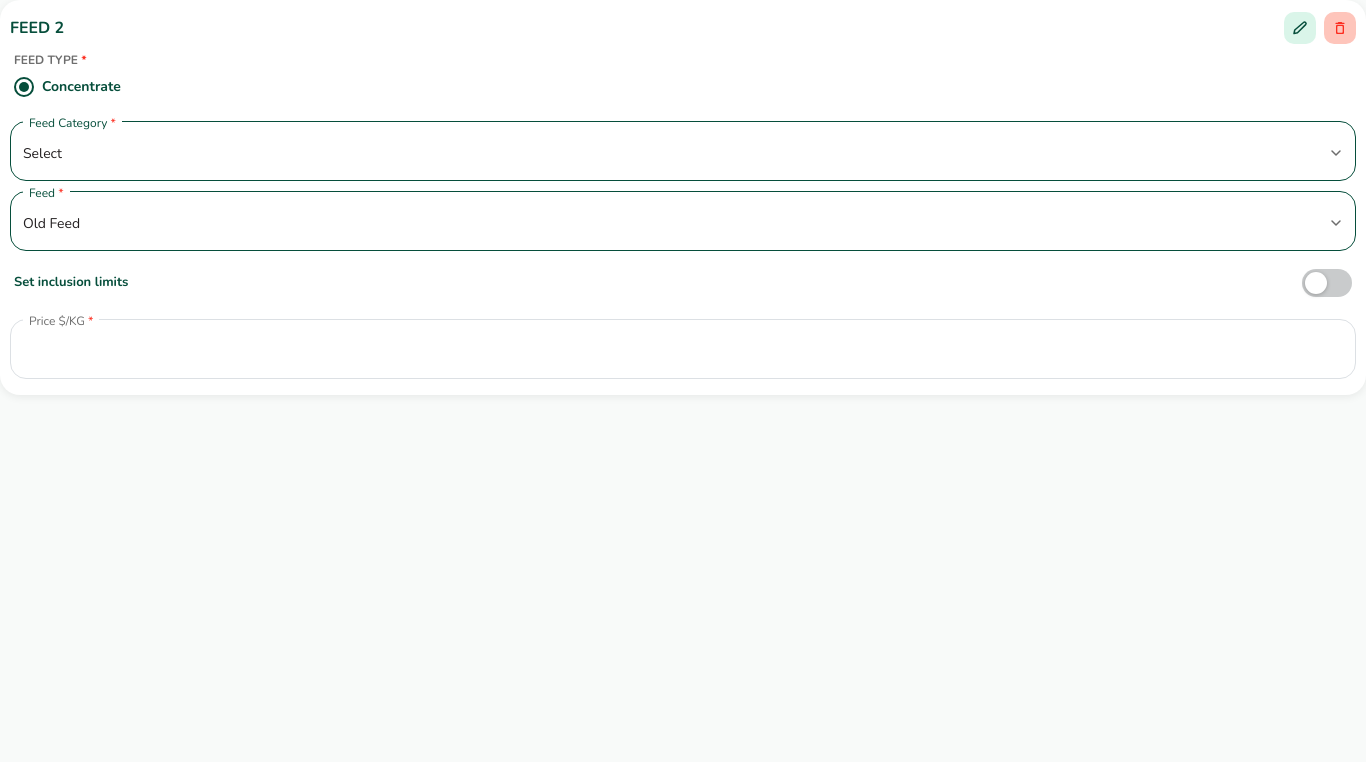
Scenario: edit dialog — insert path (§10.8 regression guard) › says so when the save returns no feed id, and keeps the original feed (N2)
Later steps or results of the test are not shown.
Expected: the button "Old Feed" is shown, 23,212 -> 1343,234
What coordinates should you click on to do the following:
click the button named "Edit feed nutritional values"
I would click on:
 (1300, 28)
Its box is 1284,12 -> 1316,44.
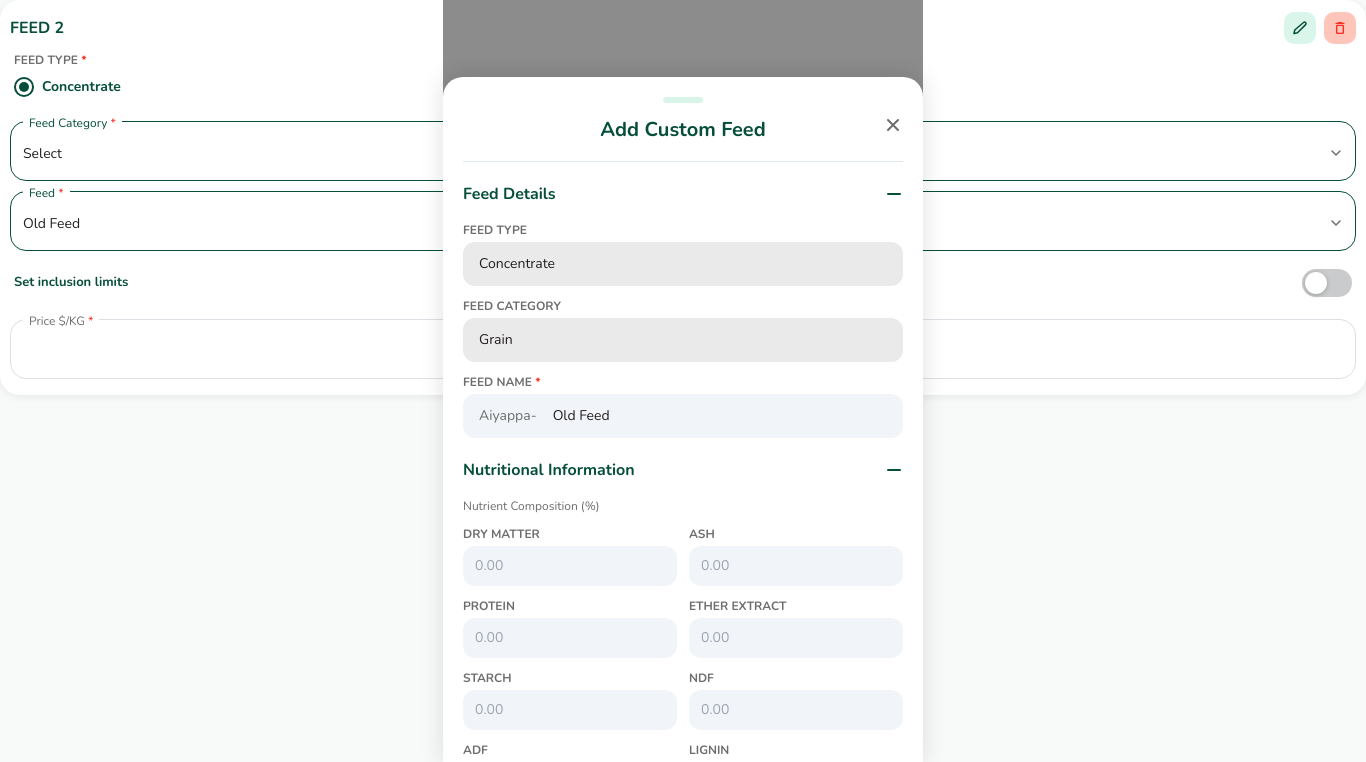
Expected: the heading "Add Custom Feed" is shown, 600,116 -> 766,143
